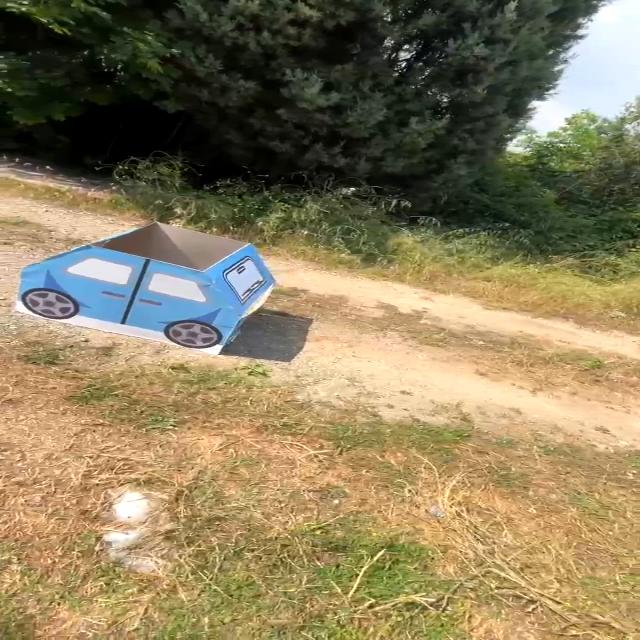blue_car: (6, 216, 304, 374)
